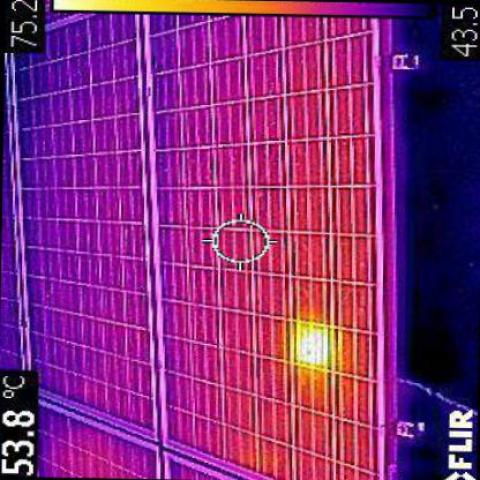fault: (299, 324, 324, 360)
